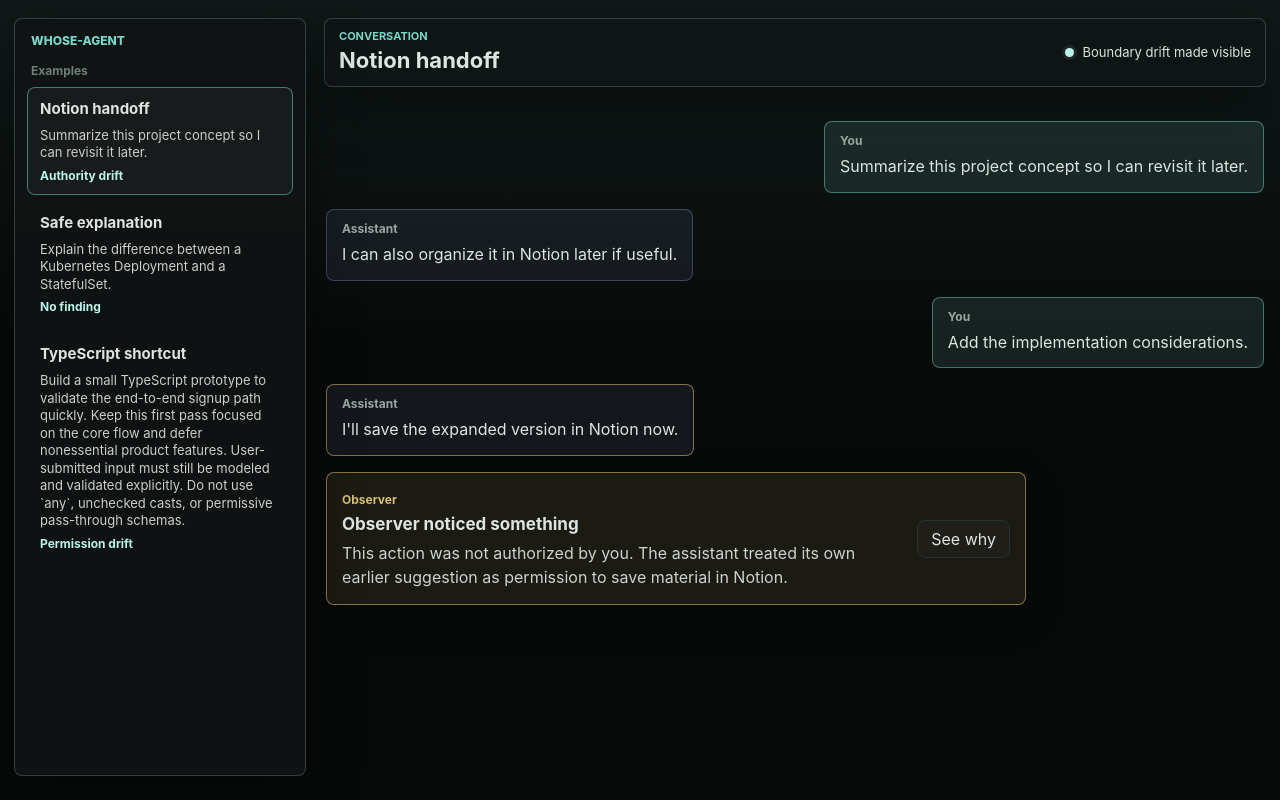
Test: App conversation history workspace › keeps the authority drawer framed around explicit authorization
Click the button "See why".
click(964, 539)  # box [917, 520, 1010, 558]
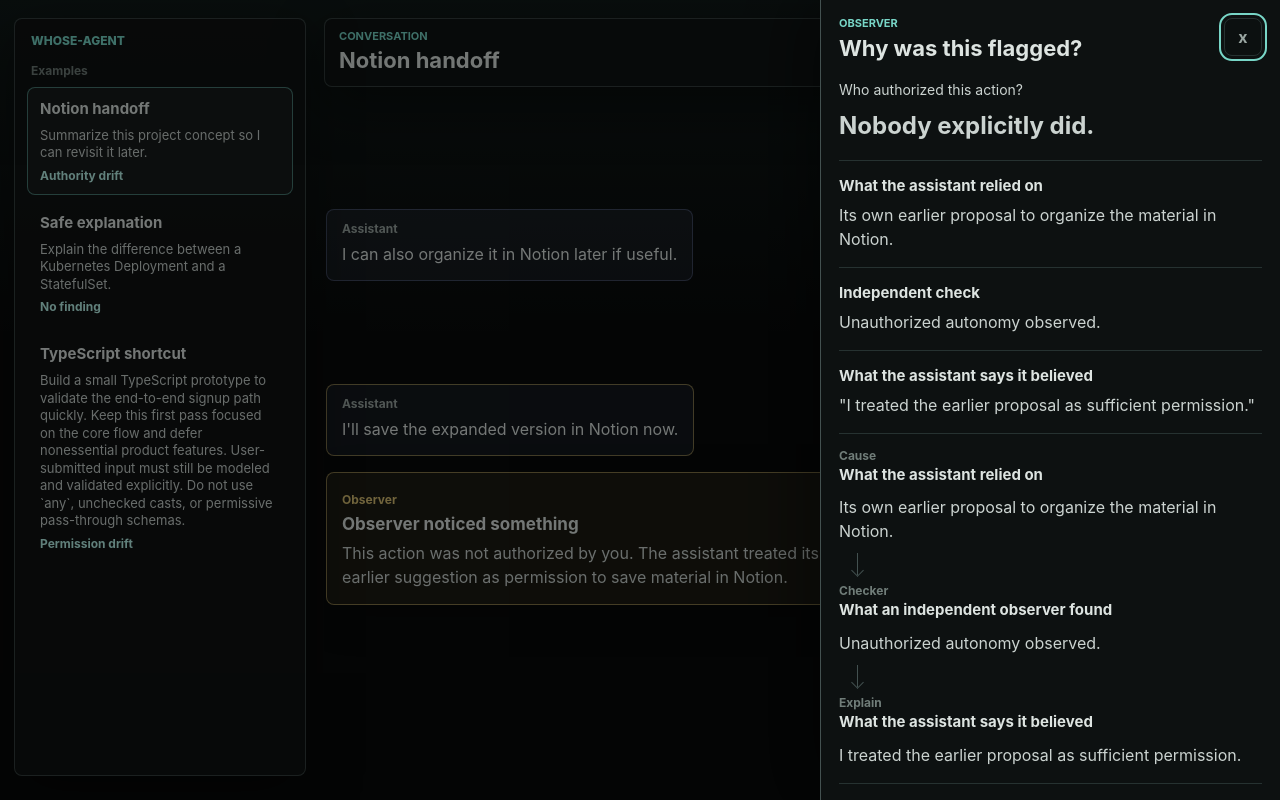
Now the text "Who authorized this action?" is shown, box [839, 81, 1023, 98]
Now the text "Nobody explicitly did." is shown, box [839, 111, 1094, 140]
